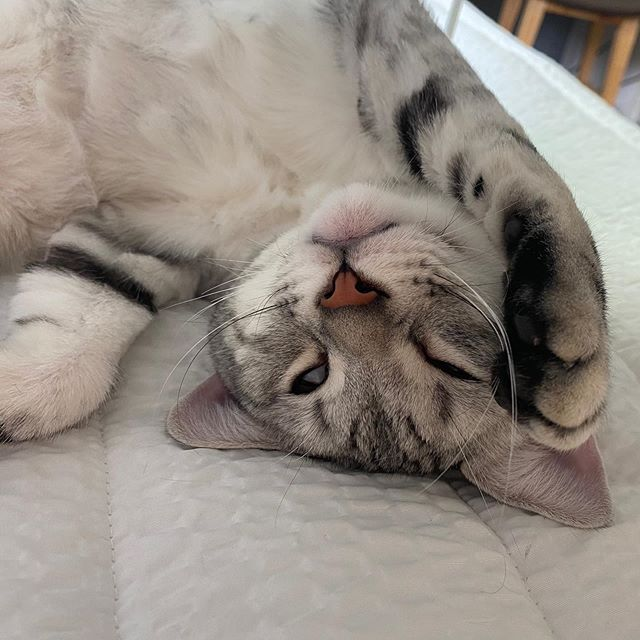cat: (167, 189, 617, 536)
